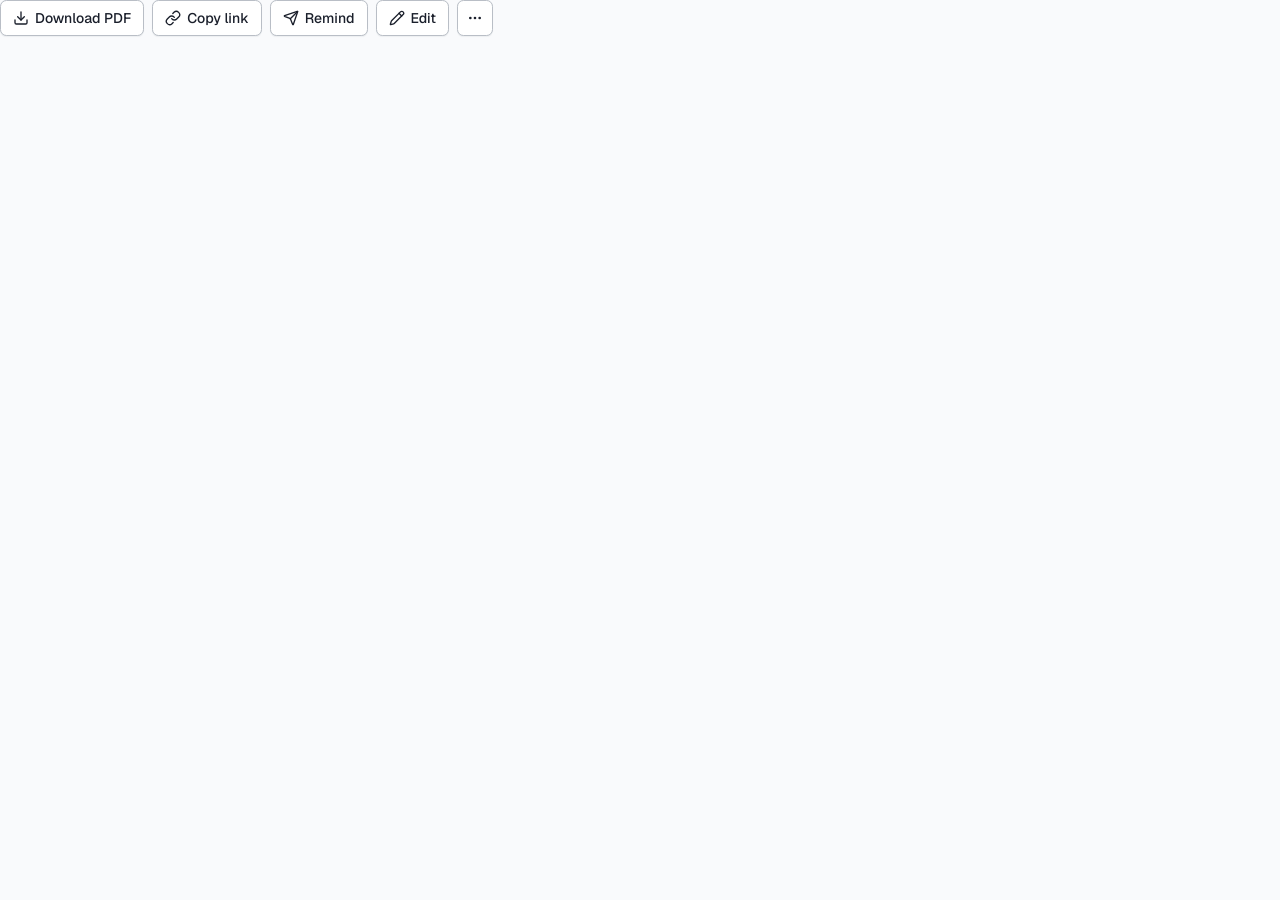
Test: a sent billing statement's actions › still asks for a reason in a dialog before any of them, opened from the menu
Press the mouse on the button named "More actions" at coordinates (475, 18), box top-left (457, 0), bottom-right (493, 36)
Click the button named "More actions" at coordinates (475, 18), box top-left (457, 0), bottom-right (493, 36)
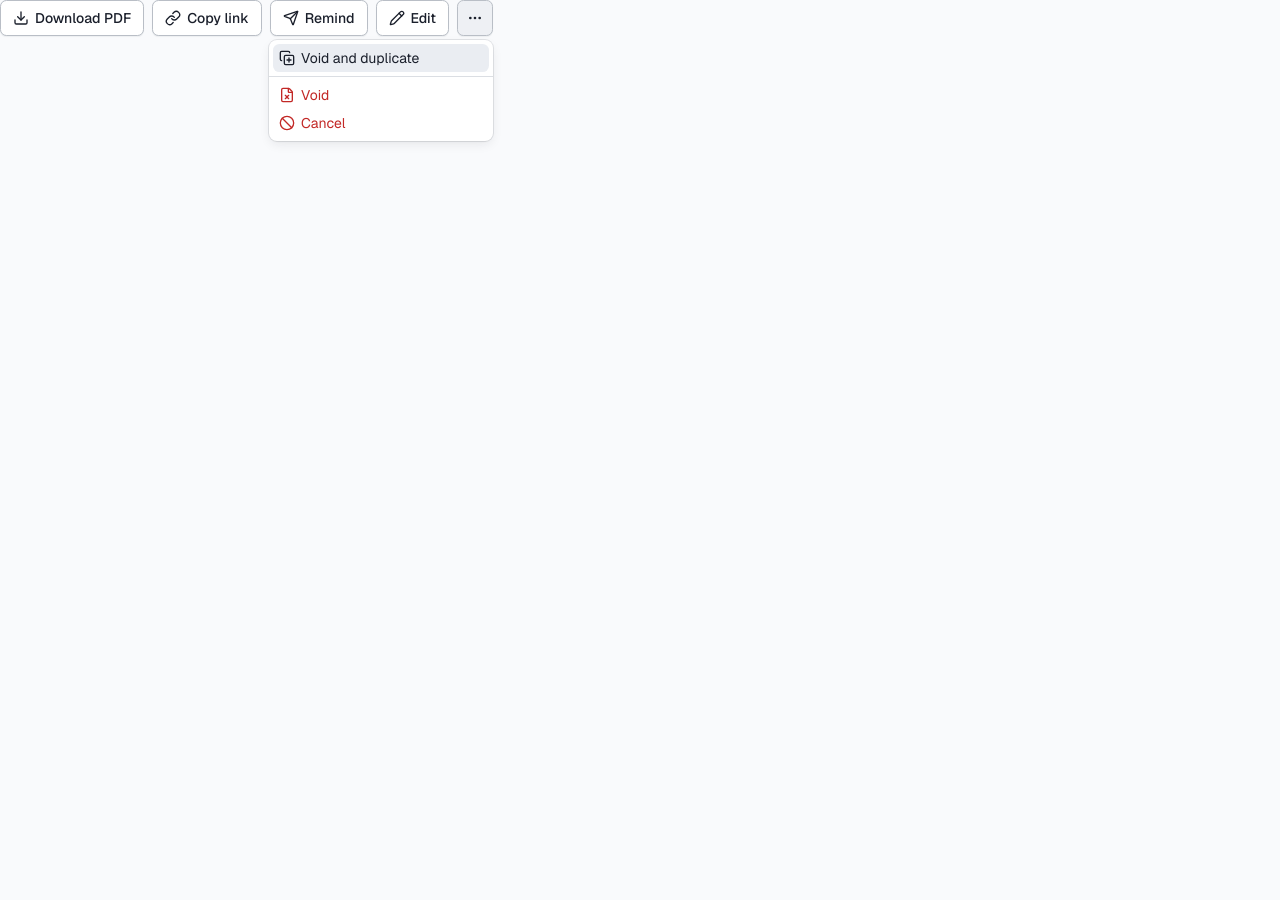
Press the mouse on the menu item "Void" at coordinates (304, 95), box top-left (279, 86), bottom-right (329, 104)
Click the menu item "Void" at coordinates (304, 95), box top-left (279, 86), bottom-right (329, 104)
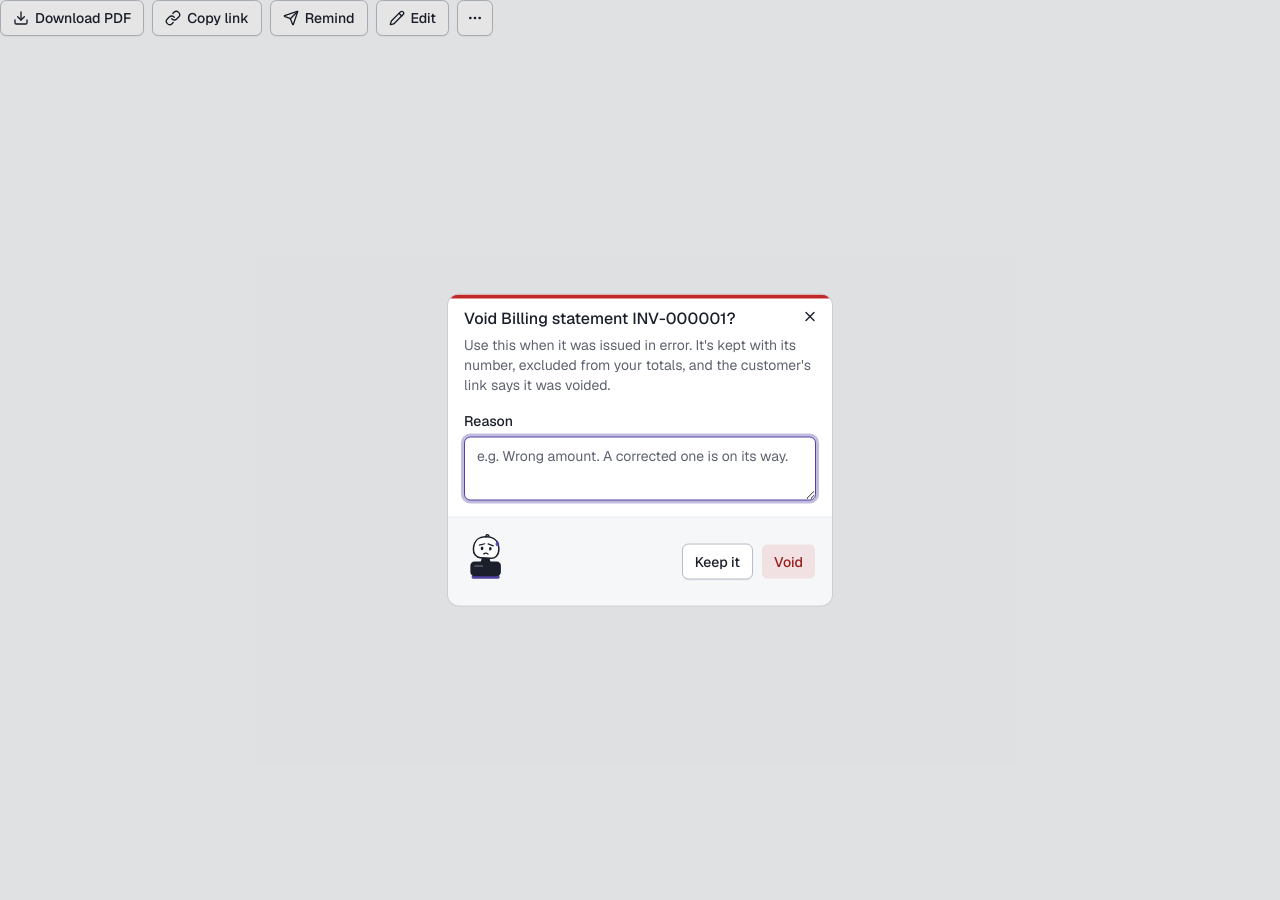
Now the dialog named "Void Billing statement INV-000001?" is shown, box top-left (448, 294), bottom-right (832, 606)
Now the text box labelled "Reason" is shown, box top-left (464, 436), bottom-right (816, 500)
